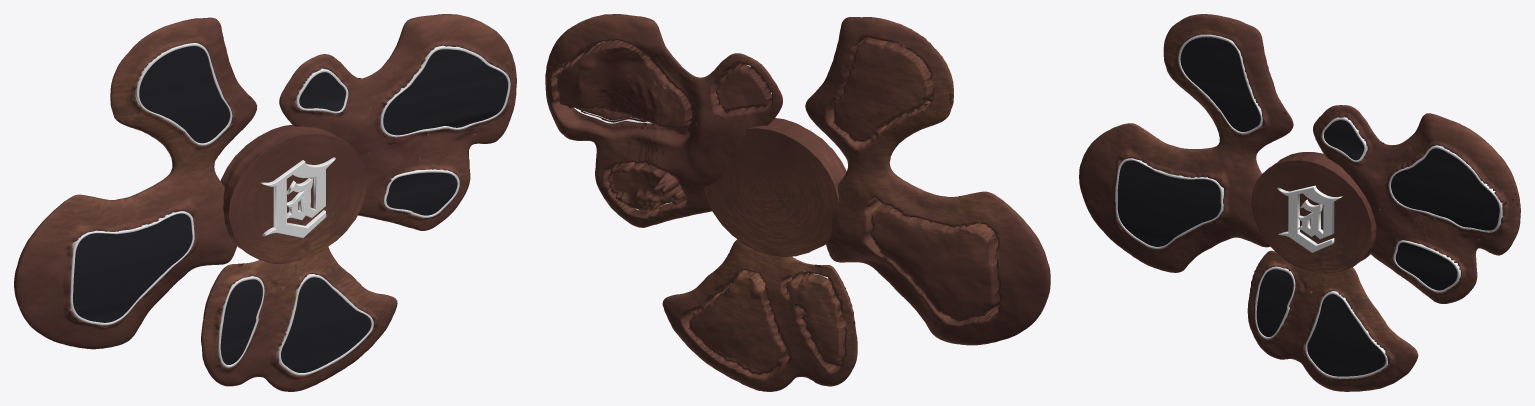
Rendered from medallion.glb.
3 renders of one model, left to right at view 1: azimuth 30°, elevation 25°; view 2: azimuth 150°, elevation 25°; view 3: azimuth 330°, elevation 25°, orthographic. The views are drawn at different scales.
Visible parts, largest first — view 1: shield_body, medallion_core, section_07_screen, section_03_screen, section_01_screen, section_05_screen, medallion_at, section_06_screen, section_04_screen, section_02_screen, section_07_bezel, section_03_bezel (+5 smaller); view 2: shield_body, medallion_core; view 3: shield_body, medallion_core, section_07_screen, section_03_screen, section_01_screen, section_05_screen, medallion_at, section_06_screen, section_04_screen, section_02_screen, section_07_bezel, section_03_bezel (+5 smaller).
Boxes of the visible parts, x1,y1,x2,y2 form: shield_body: [14, 14, 516, 391]; medallion_core: [220, 124, 366, 263]; section_07_screen: [73, 213, 192, 322]; section_03_screen: [383, 49, 507, 135]; section_01_screen: [139, 46, 229, 143]; section_05_screen: [281, 277, 371, 372]; medallion_at: [260, 157, 335, 237]; section_06_screen: [220, 279, 262, 364]; section_04_screen: [386, 172, 457, 215]; section_02_screen: [299, 72, 345, 113]; section_07_bezel: [70, 211, 194, 325]; section_03_bezel: [380, 45, 510, 137]; shield_body: [545, 14, 1050, 391]; medallion_core: [703, 118, 846, 256]; shield_body: [1079, 14, 1520, 391]; medallion_core: [1251, 152, 1376, 273]; section_07_screen: [1117, 160, 1220, 246]; section_03_screen: [1391, 148, 1499, 230]; section_01_screen: [1180, 37, 1260, 131]; section_05_screen: [1307, 294, 1385, 376]; medallion_at: [1277, 185, 1342, 252]; section_06_screen: [1256, 269, 1293, 336]; section_04_screen: [1395, 242, 1457, 290]; section_02_screen: [1324, 120, 1366, 162]; section_07_bezel: [1115, 158, 1223, 248]; section_03_bezel: [1388, 145, 1502, 232].
Size of the model in its own units: 3.35 by 2.55 by 0.3201.
Materials: 5 (2 with a texture image).
